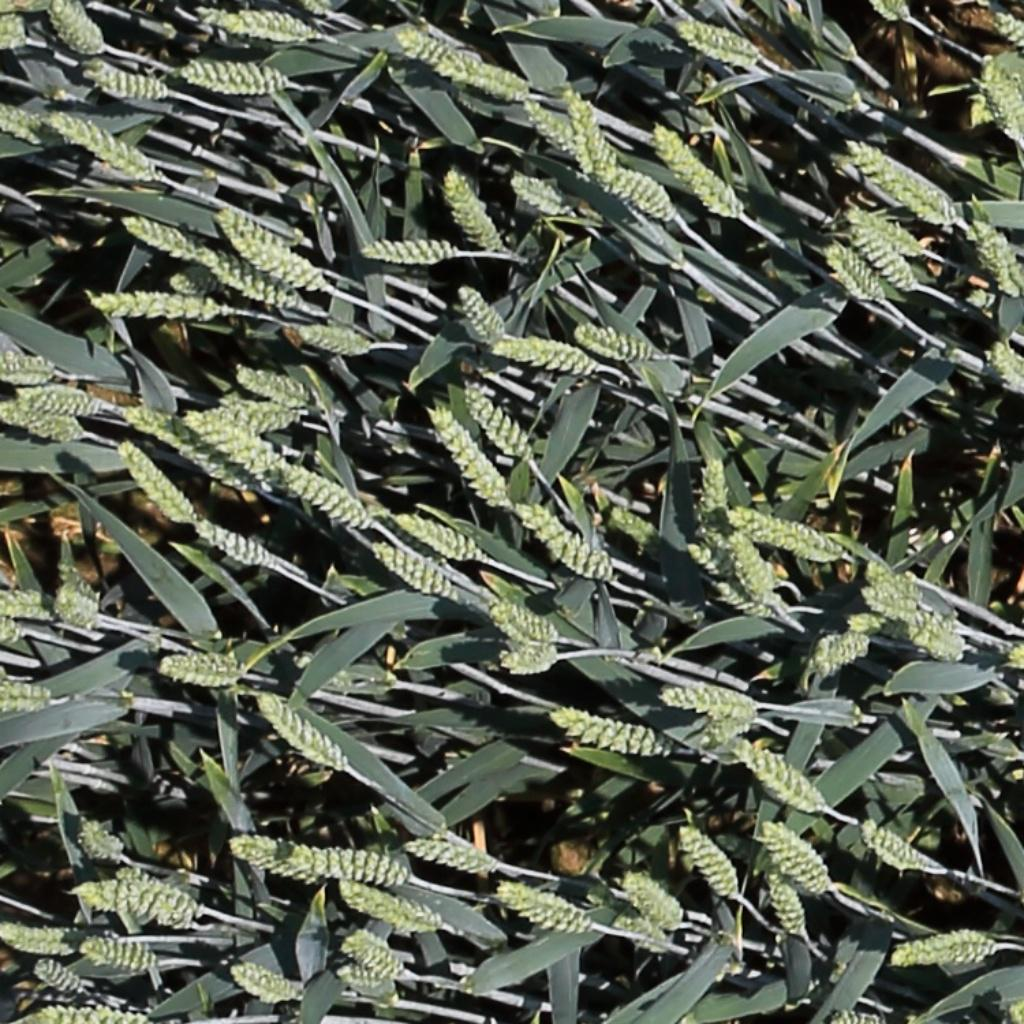0-0: (126, 405, 264, 491), (391, 27, 528, 101), (421, 404, 507, 516), (46, 107, 162, 188), (211, 205, 322, 289), (648, 120, 741, 219), (846, 139, 953, 221), (193, 244, 314, 314), (513, 501, 608, 582), (252, 693, 345, 775), (111, 436, 192, 527), (182, 412, 286, 478), (730, 741, 823, 813), (228, 824, 327, 891), (724, 506, 841, 562), (273, 462, 371, 528), (364, 539, 457, 608), (457, 382, 532, 461), (550, 709, 666, 756), (561, 87, 619, 181), (674, 823, 740, 905), (71, 878, 187, 924), (487, 332, 598, 380), (443, 161, 505, 245), (757, 823, 830, 894), (845, 219, 915, 292), (966, 212, 1024, 297), (333, 886, 436, 933), (808, 613, 885, 674), (300, 842, 405, 886), (495, 884, 585, 933), (589, 162, 673, 214), (85, 289, 219, 321), (177, 62, 289, 100), (202, 9, 317, 46), (114, 869, 200, 918), (723, 522, 775, 603), (517, 94, 582, 158), (192, 520, 275, 570), (978, 53, 1024, 143), (890, 927, 993, 967), (395, 513, 480, 560), (484, 600, 560, 652), (760, 864, 809, 944), (823, 240, 884, 304), (905, 610, 969, 671), (655, 677, 763, 713), (674, 19, 759, 64), (856, 823, 929, 875), (450, 277, 505, 346), (153, 647, 245, 688), (619, 872, 681, 932), (45, 0, 111, 56), (118, 214, 197, 259), (0, 402, 85, 443), (846, 206, 921, 252), (570, 323, 655, 363), (80, 62, 171, 99), (402, 835, 498, 869), (81, 934, 159, 975), (232, 365, 308, 406), (0, 93, 56, 148), (290, 322, 371, 360), (358, 236, 457, 267), (853, 580, 924, 623), (226, 962, 301, 1002), (15, 381, 99, 416), (0, 926, 89, 957), (339, 936, 401, 980), (699, 450, 727, 547), (214, 400, 296, 431), (506, 172, 566, 214), (332, 962, 392, 1004), (711, 580, 774, 619), (499, 640, 565, 675), (684, 540, 738, 582), (625, 913, 674, 957), (80, 817, 127, 861), (60, 587, 109, 629), (863, 562, 927, 594), (0, 349, 58, 384), (0, 588, 59, 622), (604, 506, 655, 544), (987, 9, 1024, 61), (31, 959, 83, 993), (1, 680, 53, 713), (989, 339, 1024, 383), (709, 712, 756, 740), (873, 0, 912, 24)
